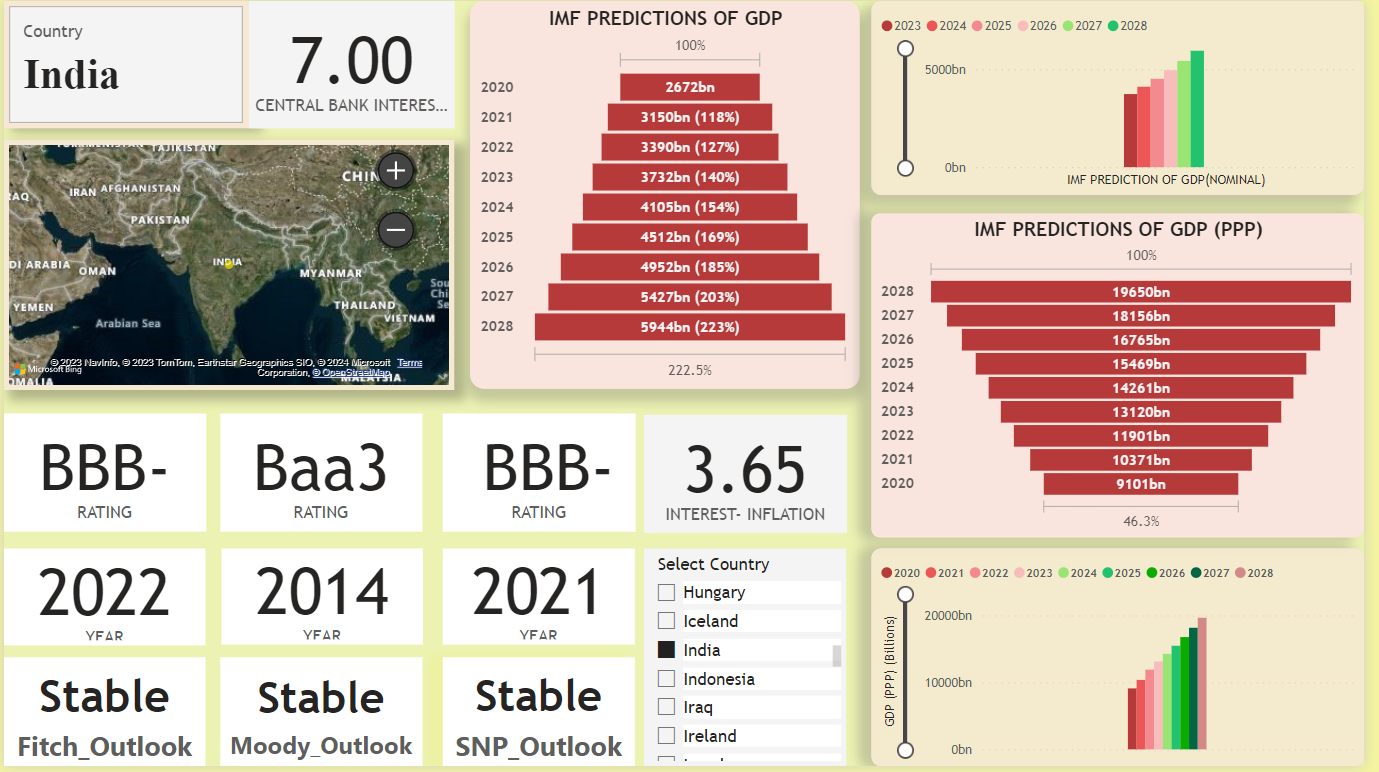

This screenshot's page, from the dashboard's own definition file:
{"tool":"powerbi","page":{"name":"Page 1","canvas":[1280,720],"ordinal":0},"visuals":[{"type":"card","fields":{"Values":["Min(credit_rating_data.Fitch_Outlook)"]},"box":[0,617.3,189.8,102.7],"z":0},{"type":"card","fields":{"Values":["Min(credit_rating_data.Fitch_rating)"]},"box":[0,388.8,190,111.2],"z":1000},{"type":"slicer","fields":{"Values":["credit_rating_data.Country"]},"box":[602.4,515.3,190.6,204.7],"z":2000},{"type":"card","fields":{"Values":["Min(credit_rating_data.moody_rating)"]},"box":[203.8,388.8,190,111.2],"z":3000},{"type":"card","fields":{"Values":["Min(credit_rating_data.Moody_Outlook)"]},"box":[203.8,617.5,190,102.5],"z":4000},{"type":"card","fields":{"Values":["Min(credit_rating_data.SNP_rating)"]},"box":[412.5,388.8,181.2,111.2],"z":5000},{"type":"card","fields":{"Values":["Min(credit_rating_data.SNP_Outlook)"]},"box":[413,617.3,180.8,102.7],"z":6000},{"type":"map","fields":{"Category":["credit_rating_data.Country"],"Size":["CountNonNull(credit_rating_data.moody_rating)"]},"box":[0,130.1,423.9,235.5],"z":7000},{"type":"cardVisual","fields":{"Data":["Min(credit_rating_data.Country)"]},"box":[0,0,230.5,120.2],"z":8000},{"type":"clusteredColumnChart","fields":{"Y":["Sum(GDP_PPP.2020)","Sum(GDP_PPP.2021)","Sum(GDP_PPP.2022)","Sum(GDP_PPP.2023)","Sum(GDP_PPP.2024)","Sum(GDP_PPP.2025)","Sum(GDP_PPP.2026)","Sum(GDP_PPP.2027)","Sum(GDP_PPP.2028)"]},"box":[816.7,515.6,463.5,204.5],"z":9000},{"type":"clusteredColumnChart","fields":{"Y":["Sum(imf_predictions.2023)","Sum(imf_predictions.2024)","Sum(imf_predictions.2025)","Sum(imf_predictions.2026)","Sum(imf_predictions.2027)","Sum(imf_predictions.2028)"]},"box":[816.7,0,463.5,182.2],"z":10000},{"type":"funnel","title":"IMF PREDICTIONS OF GDP","fields":{"Y":["Sum(imf_predictions.2020)","Sum(imf_predictions.2021)","Sum(imf_predictions.2022)","Sum(imf_predictions.2023)","Sum(imf_predictions.2024)","Sum(imf_predictions.2025)","Sum(imf_predictions.2026)","Sum(imf_predictions.2027)","Sum(imf_predictions.2028)"]},"box":[438.8,0,366.2,365],"z":11000},{"type":"card","fields":{"Values":["Sum(credit_rating_data.MOODY_YEAR)"]},"box":[204.3,515.7,189.8,90.4],"z":12000},{"type":"card","fields":{"Values":["Sum(credit_rating_data.Fitch_year)"]},"box":[0,515.7,189.8,91.5],"z":13000},{"type":"card","fields":{"Values":["Sum(credit_rating_data.Moody_Year)"]},"box":[413,515.7,180.8,90.4],"z":14000},{"type":"funnel","title":"IMF PREDICTIONS OF GDP (PPP)","fields":{"Y":["Sum(GDP_PPP.2028)","Sum(GDP_PPP.2027)","Sum(GDP_PPP.2026)","Sum(GDP_PPP.2025)","Sum(GDP_PPP.2024)","Sum(GDP_PPP.2023)","Sum(GDP_PPP.2022)","Sum(GDP_PPP.2021)","Sum(GDP_PPP.2020)"]},"box":[816.7,199.5,463.5,304.9],"z":15000},{"type":"card","fields":{"Values":["Sum(Bond_rates.Central bankinterest rate (%))"]},"box":[230.5,0,193.3,120.2],"z":16000},{"type":"card","fields":{"Values":["Sum(Bond_rates.Central bank interest rate minus averageinflation rate (2017–2021))"]},"box":[602.3,389.2,190.9,111.5],"z":17000}]}

Visuals, with their boxes in screenshot pixels (x1, y1, x2, y2), scaled from the page's 1280x720 canvas onto the 1379x772 screenshot:
card - Min(credit_rating_data.Fitch_Outlook): <box>0,662,204,771</box>
card - Min(credit_rating_data.Fitch_rating): <box>0,417,205,536</box>
slicer - credit_rating_data.Country: <box>649,553,854,771</box>
card - Min(credit_rating_data.moody_rating): <box>220,417,424,536</box>
card - Min(credit_rating_data.Moody_Outlook): <box>220,662,424,771</box>
card - Min(credit_rating_data.SNP_rating): <box>444,417,640,536</box>
card - Min(credit_rating_data.SNP_Outlook): <box>445,662,640,771</box>
map - credit_rating_data.Country x CountNonNull(credit_rating_data.moody_rating): <box>0,139,457,392</box>
cardVisual - Min(credit_rating_data.Country): <box>0,0,248,129</box>
clusteredColumnChart - Sum(GDP_PPP.2020) x Sum(GDP_PPP.2021): <box>880,553,1378,771</box>
clusteredColumnChart - Sum(imf_predictions.2023) x Sum(imf_predictions.2024): <box>880,0,1378,195</box>
"IMF PREDICTIONS OF GDP" funnel: <box>473,0,867,391</box>
card - Sum(credit_rating_data.MOODY_YEAR): <box>220,553,425,650</box>
card - Sum(credit_rating_data.Fitch_year): <box>0,553,204,651</box>
card - Sum(credit_rating_data.Moody_Year): <box>445,553,640,650</box>
"IMF PREDICTIONS OF GDP (PPP)" funnel: <box>880,214,1378,541</box>
card - Sum(Bond_rates.Central bankinterest rate (%)): <box>248,0,457,129</box>
card - Sum(Bond_rates.Central bank interest rate minus averageinflation rate (2017–2021)): <box>649,417,855,537</box>
